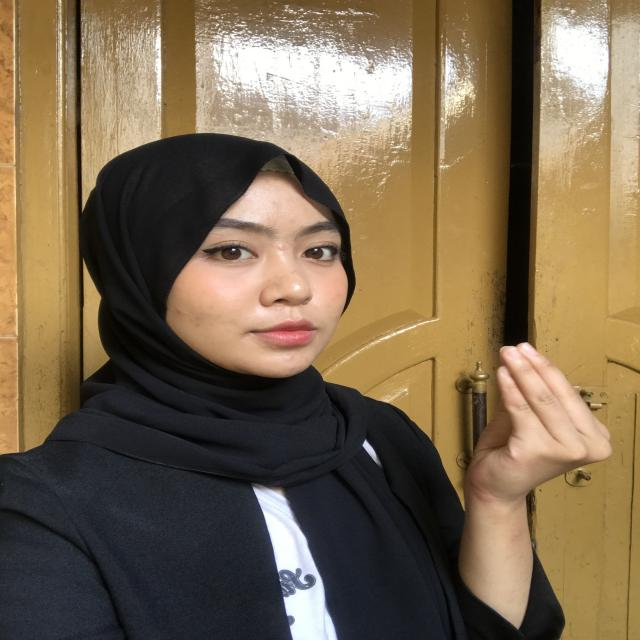kapan: (467, 338, 612, 508)
